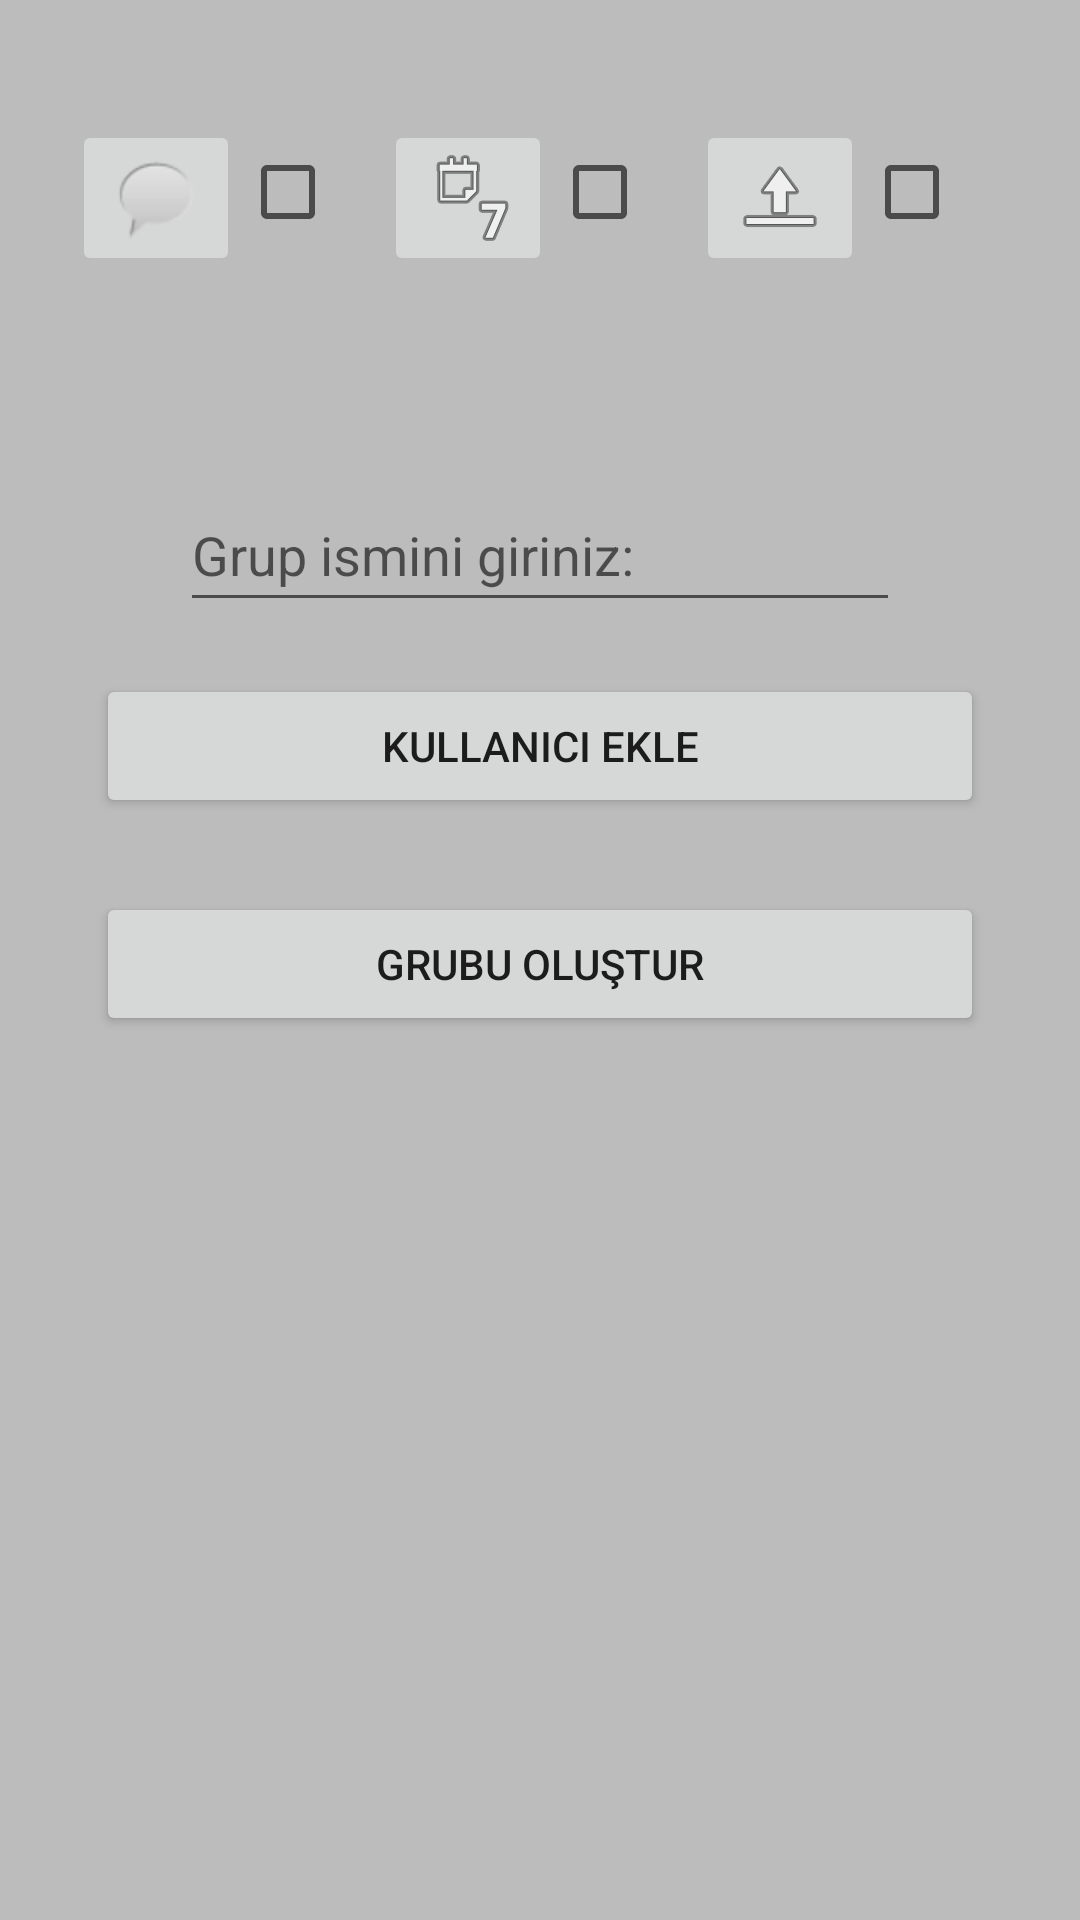

Point at icon controls on the screen. Image size 1080px×1920px, points as (x,y).
sym action chat: (156,198)
upload: (780,198)
week: (468,198)
